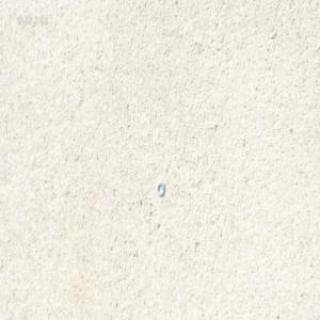Washertrack_idkeyframe: (156, 180, 164, 196)
